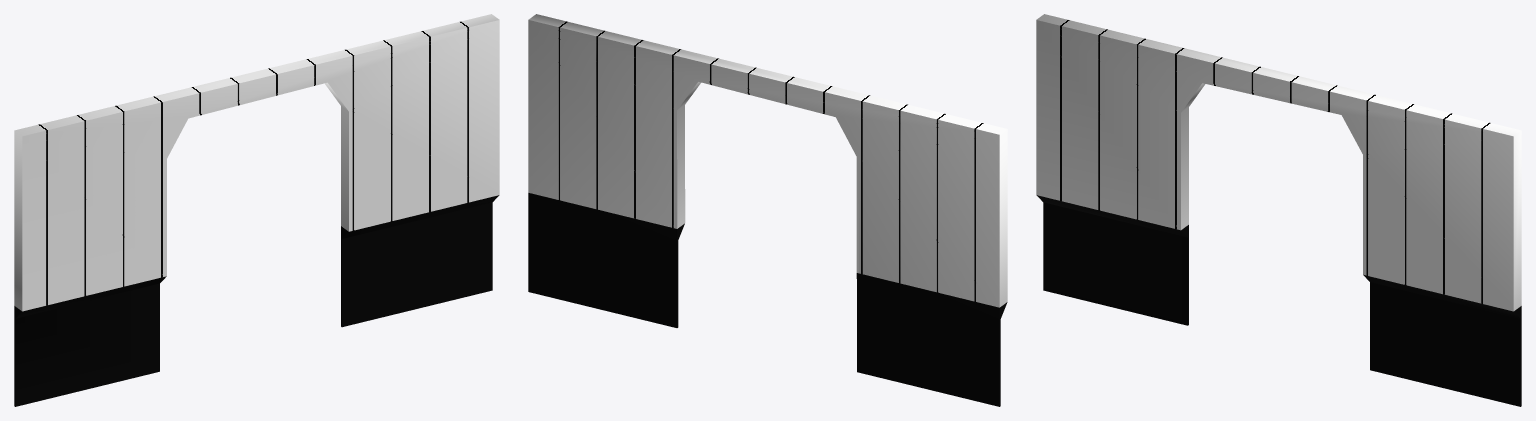
File: InteriorDoor.glb
3 views of the same model, side by side, from view 1: azimuth 30°, elevation 25°; view 2: azimuth 150°, elevation 25°; view 3: azimuth 330°, elevation 25° (orthographic).
Visible parts, largest first — view 1: InteriorDoor; view 2: InteriorDoor; view 3: InteriorDoor.
Part boxes in pixels (x1,y1,x2,y2): InteriorDoor: (14,14,499,406); InteriorDoor: (528,14,1007,406); InteriorDoor: (1036,14,1521,406).
Bounding box in the file's own units: 10.79 × 5.95 × 0.3168.
2 materials, 1 textured.
